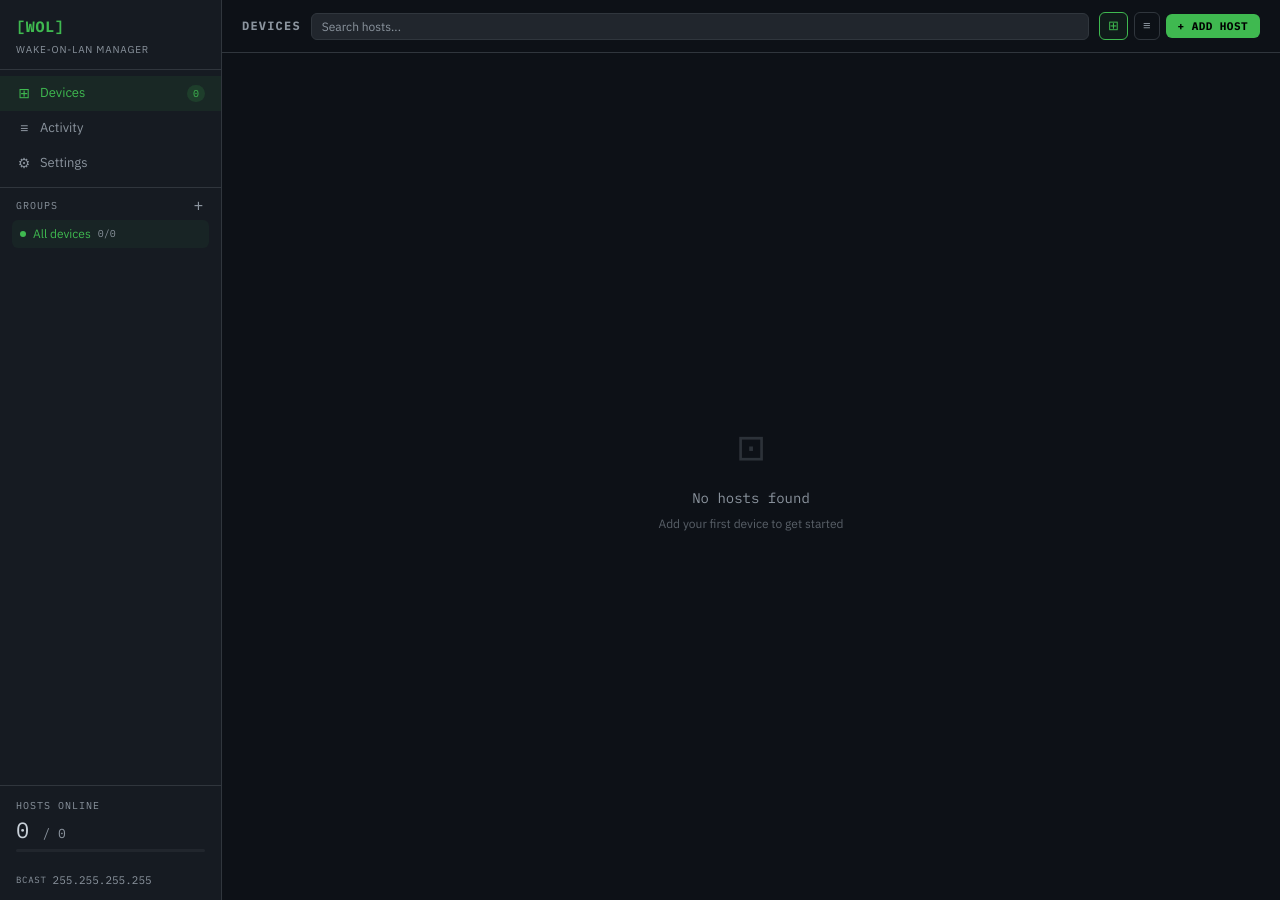
Test: App › addDevice › closes modal on CANCEL
Click the button "+ ADD HOST" at (1213, 26), box [1166,14,1260,38]
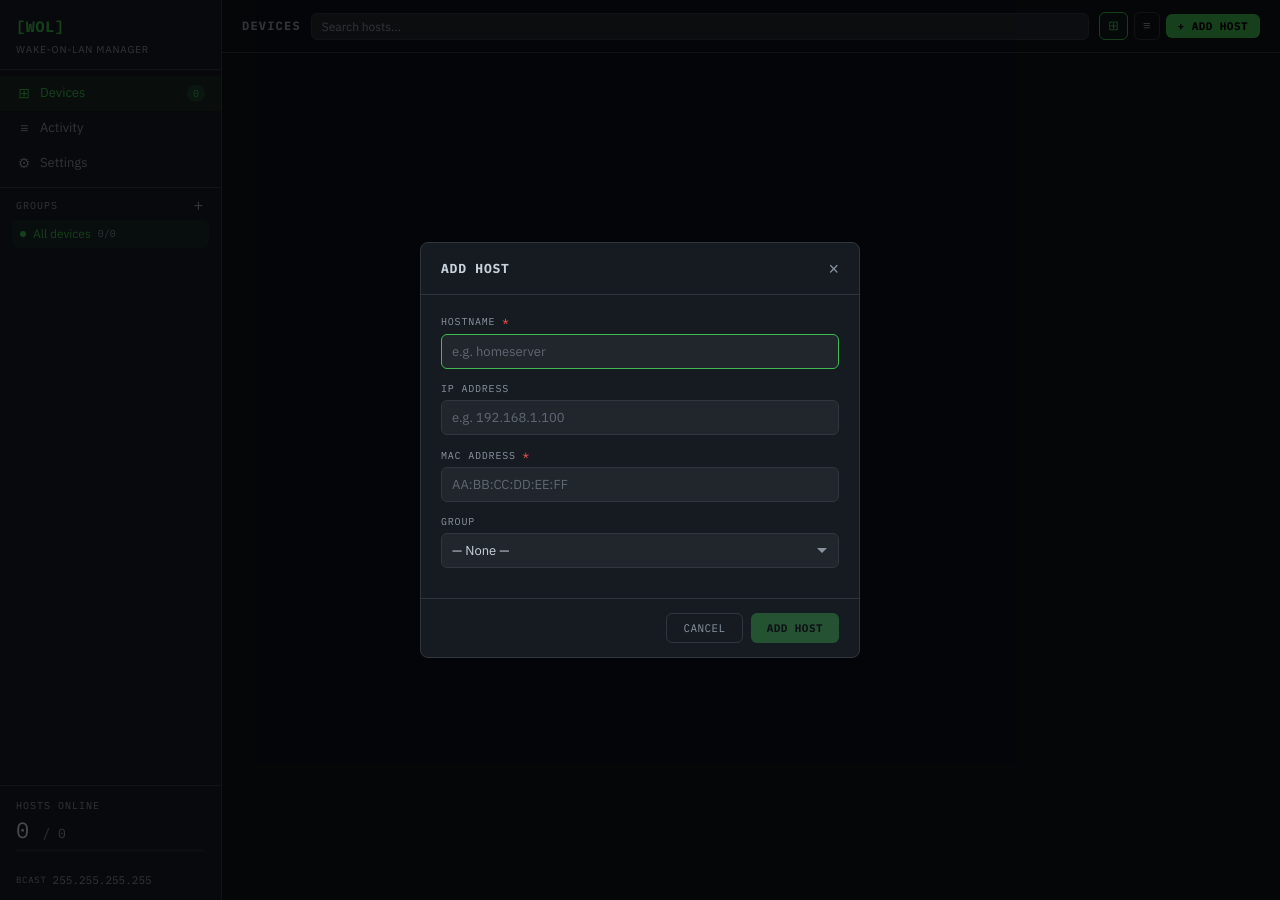
Check: the dialog is shown, box [420,242,860,658]
Click the button "CANCEL" at (705, 628), box [666,613,743,643]
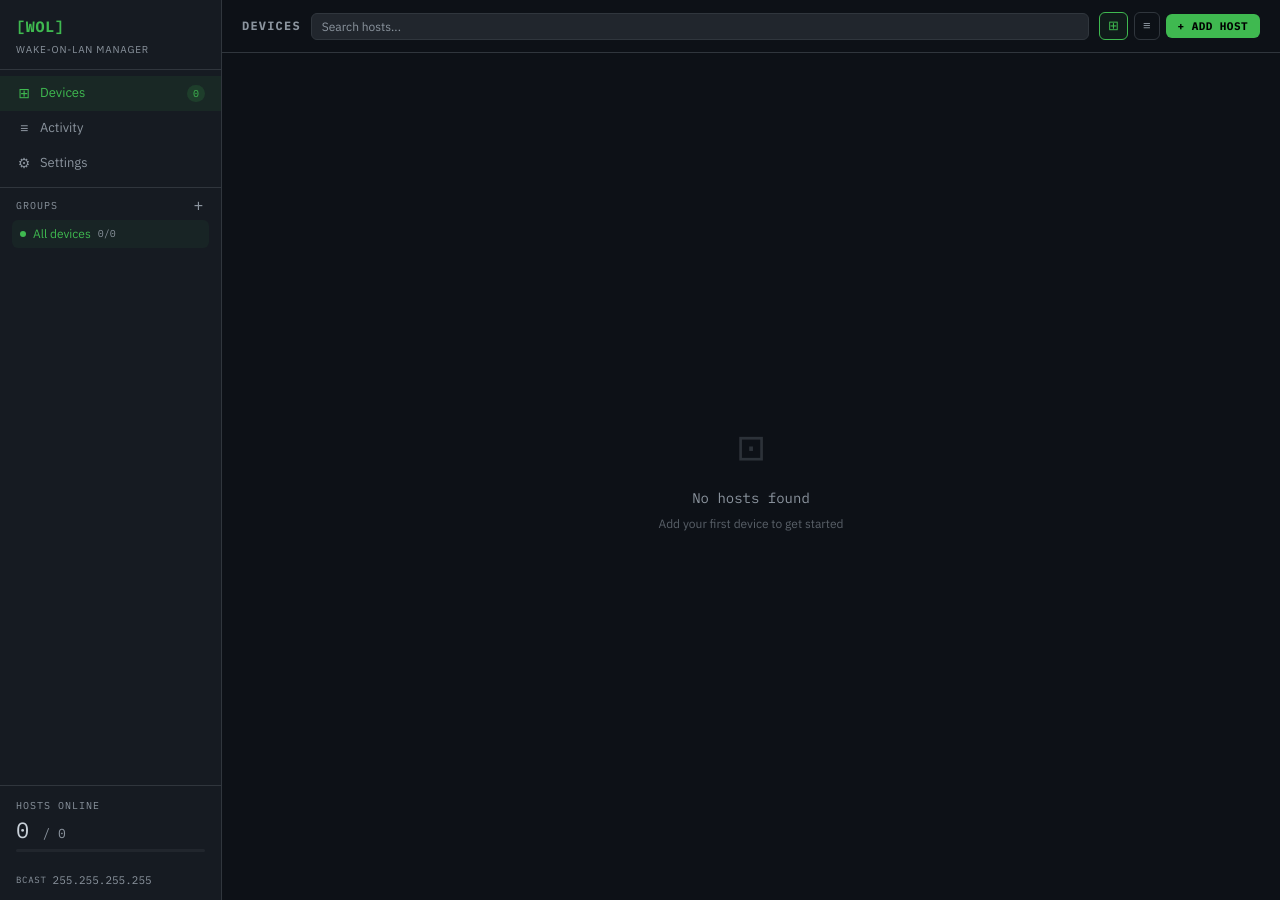
Check: the dialog is gone
